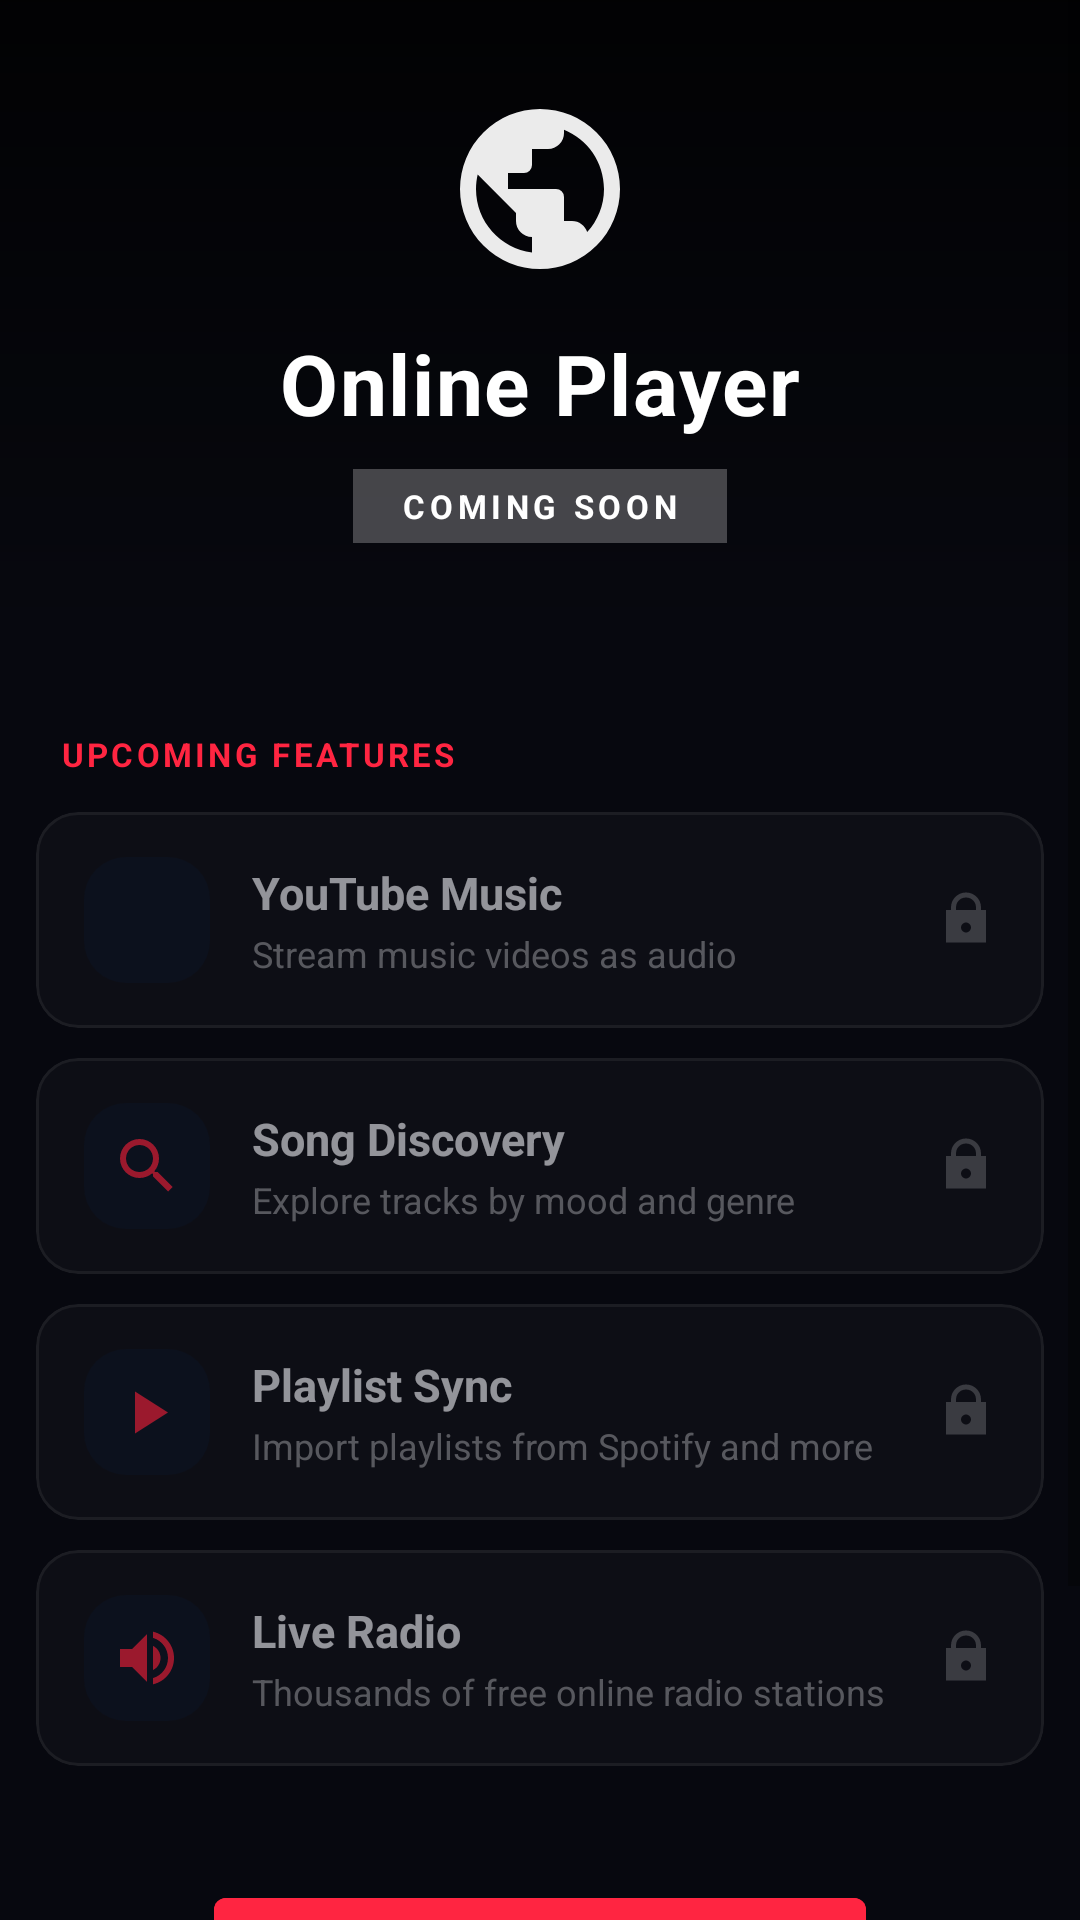

Icons on this 1080x1920 Android screen, each with its box as (x1, y1, x2, y2):
lock: (946, 893, 986, 942), (946, 1139, 986, 1188), (946, 1385, 986, 1434), (946, 1631, 986, 1680)
network: (460, 109, 620, 269)
search: (120, 1139, 173, 1192)
volume: (120, 1631, 174, 1685)
